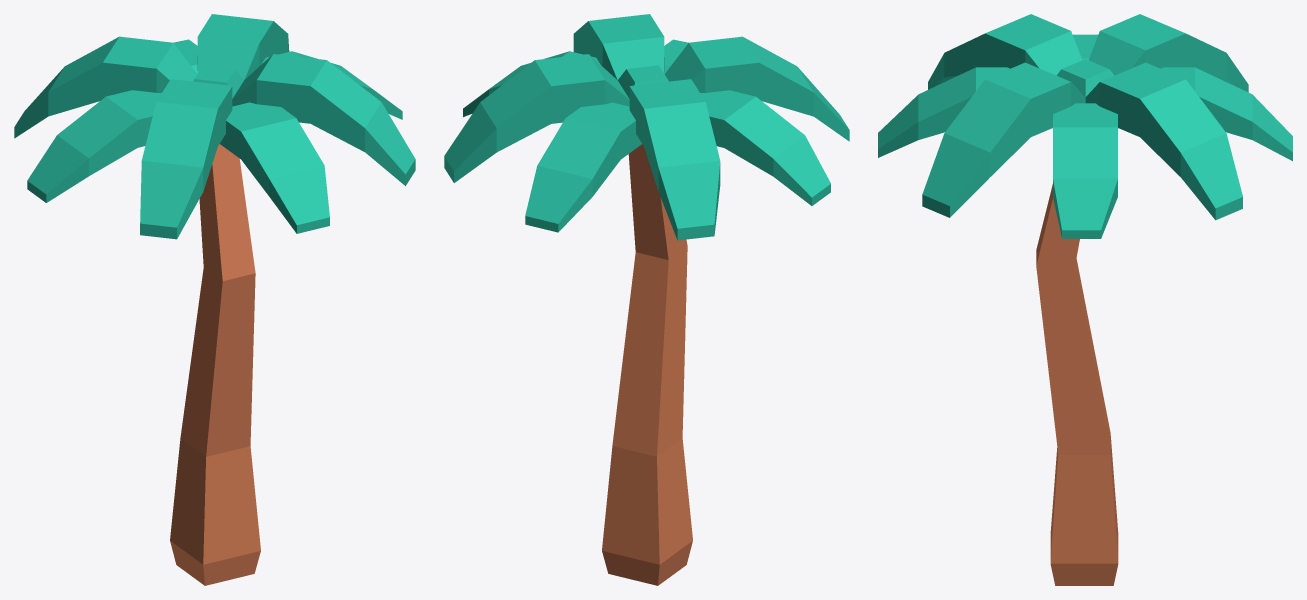
Rendered from tree_palmDetailedTall.dae.
3 views of the same model, side by side, from view 1: azimuth 30°, elevation 25°; view 2: azimuth 150°, elevation 25°; view 3: azimuth 270°, elevation 25° (orthographic).
Parts seen in each view (by area): view 1: leafs (×2), tree_palmDetailedTall; view 2: leafs (×2), tree_palmDetailedTall; view 3: leafs (×2), tree_palmDetailedTall.
Boxes of the visible parts, x1=… form: leafs (×2): x1=14, y1=14, x2=415, y2=239; tree_palmDetailedTall: x1=170, y1=144, x2=260, y2=585; leafs (×2): x1=444, y1=14, x2=849, y2=240; tree_palmDetailedTall: x1=602, y1=144, x2=692, y2=585; leafs (×2): x1=878, y1=14, x2=1292, y2=238; tree_palmDetailedTall: x1=1036, y1=184, x2=1118, y2=585.
Size of the model in its own units: 1.03 by 1.42 by 1.03.
